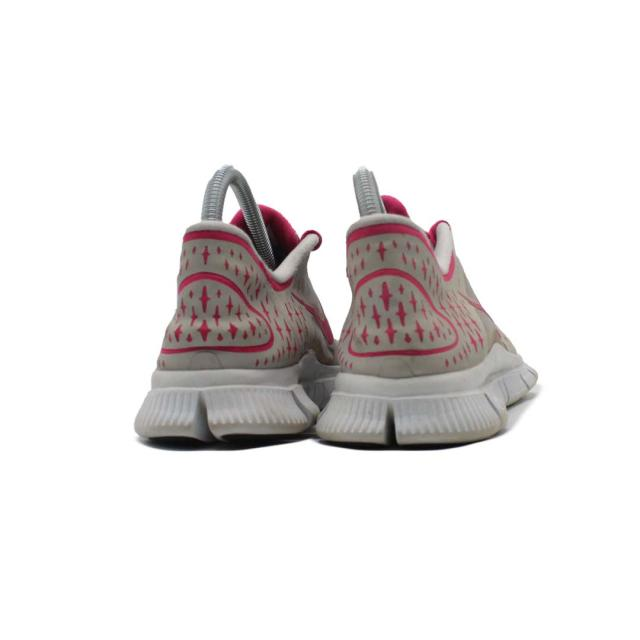heel: (328, 217, 477, 385), (162, 218, 294, 373)
midsole: (145, 363, 523, 453)
